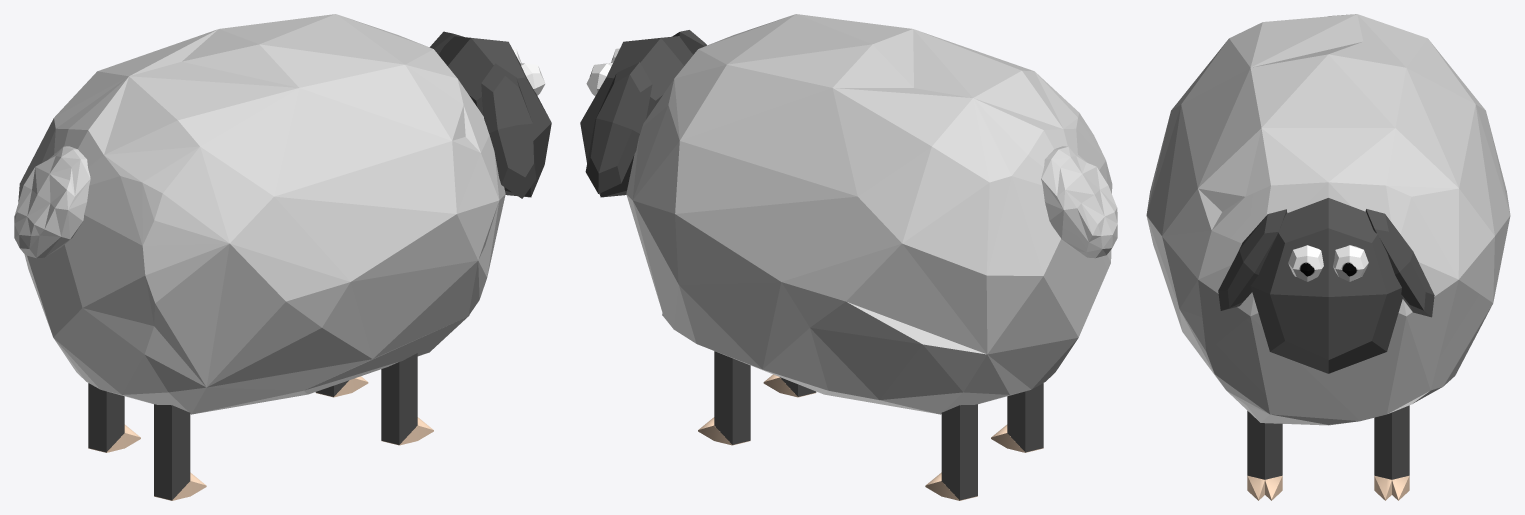
Rendered from sheep.fbx.
The picture shows the model from 3 angles, left to right: view 1: azimuth 30°, elevation 25°; view 2: azimuth 150°, elevation 25°; view 3: azimuth 270°, elevation 25°; orthographic projection. The views are drawn at different scales.
Parts seen in each view (by area): view 1: pCylinder12; view 2: pCylinder12; view 3: pCylinder12.
Part boxes in pixels (x1=…): pCylinder12: x1=14, y1=14, x2=551, y2=500; pCylinder12: x1=580, y1=14, x2=1117, y2=500; pCylinder12: x1=1146, y1=14, x2=1510, y2=500.
Size of the model in its own units: 0.8605 by 0.9949 by 1.36.
